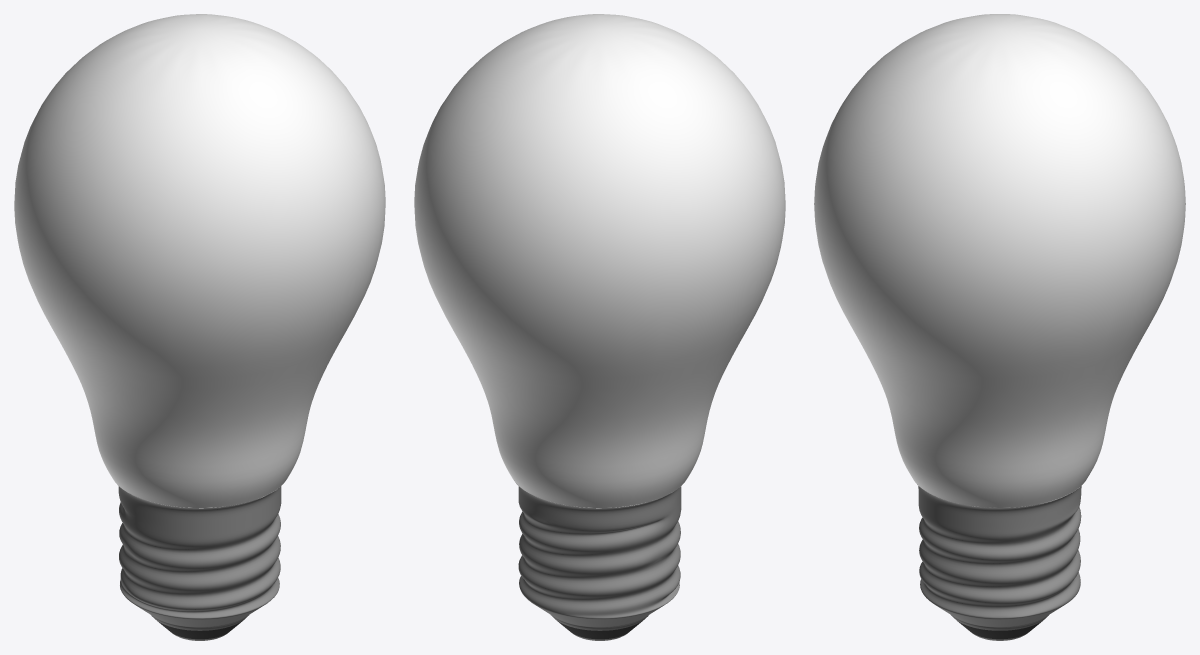
The model's file is bulb-transformed.glb.
3 renders of one model, left to right at view 1: azimuth 30°, elevation 25°; view 2: azimuth 150°, elevation 25°; view 3: azimuth 270°, elevation 25°, orthographic.
Visible parts, largest first — view 1: Sphere_0, Sphere.001_0; view 2: Sphere_0, Sphere.001_0; view 3: Sphere_0, Sphere.001_0.
Part boxes in pixels (<box>): Sphere_0: <box>14,14,385,508</box>; Sphere.001_0: <box>118,486,281,640</box>; Sphere_0: <box>414,14,785,508</box>; Sphere.001_0: <box>518,486,681,640</box>; Sphere_0: <box>814,14,1185,507</box>; Sphere.001_0: <box>918,486,1081,640</box>.
Bounding box in the file's own units: 0.4055 × 0.7225 × 0.4055.
Materials: 4 (4 with a texture image).
